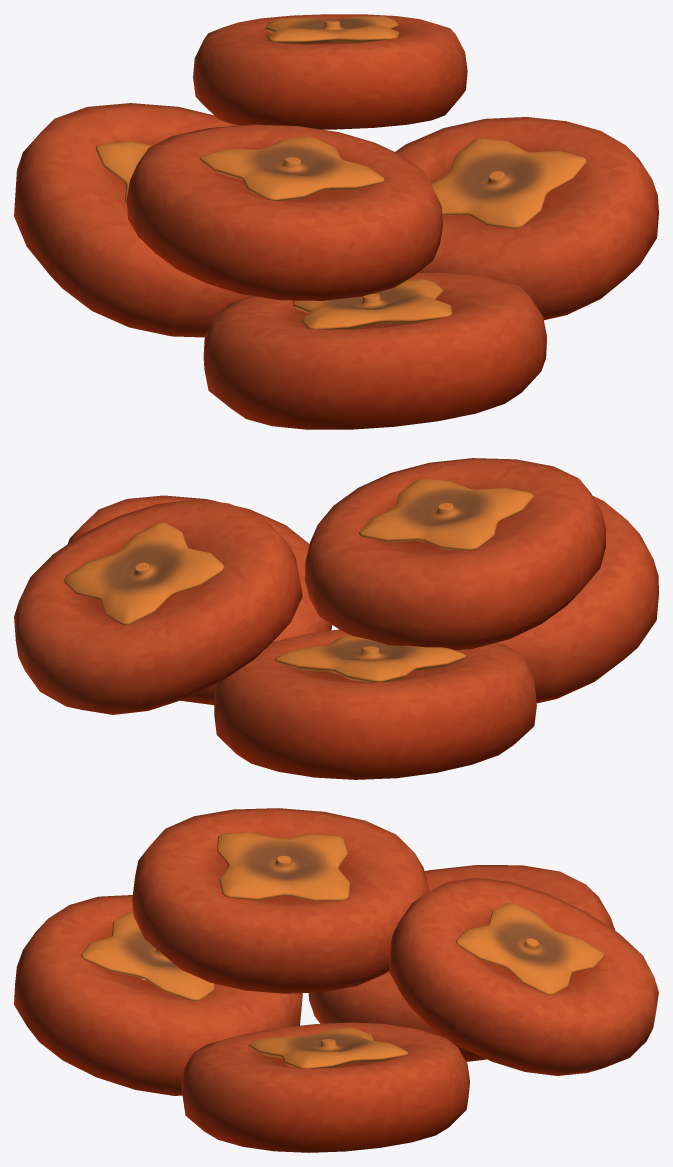
The model's file is Plate06.fbx.
The picture shows the model from 3 angles, top to bottom: view 1: azimuth 30°, elevation 25°; view 2: azimuth 150°, elevation 25°; view 3: azimuth 270°, elevation 25°; orthographic projection. The views are drawn at different scales.
Visible parts, largest first — view 1: Dessert06Plate; view 2: Dessert06Plate; view 3: Dessert06Plate.
Boxes of the visible parts, x1,y1,x2,y2 form: Dessert06Plate: (14, 14, 658, 429); Dessert06Plate: (14, 458, 658, 779); Dessert06Plate: (14, 808, 658, 1152).
Bounding box in the file's own units: 20.52 × 8.5 × 24.15.
1 material, 1 textured.
